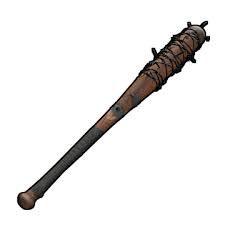baseball bat: (17, 23, 206, 210)
